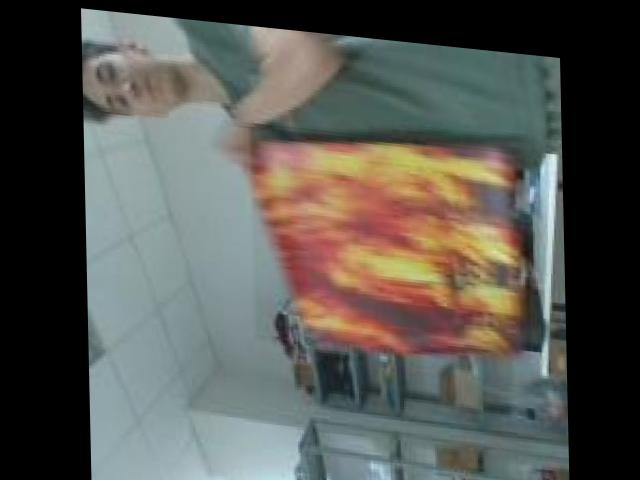fire-poster: (243, 114, 534, 363)
